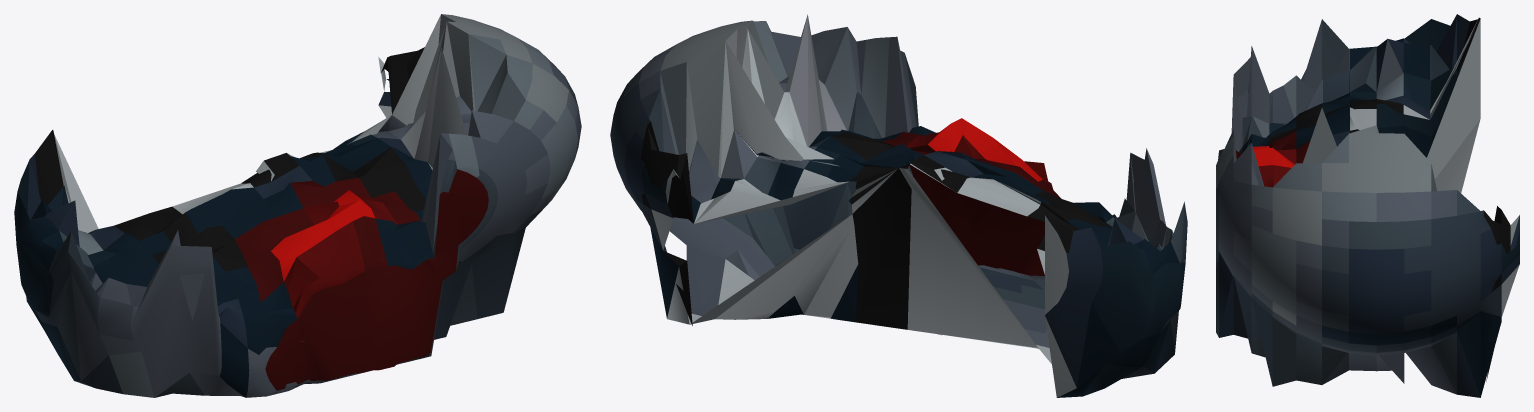
File: gyges_stalk_cap_damaged.glb
3 views of the same model, side by side, from view 1: azimuth 30°, elevation 25°; view 2: azimuth 150°, elevation 25°; view 3: azimuth 270°, elevation 25° (orthographic).
Parts seen in each view (by area): view 1: gyges_stalk_cap_damaged_stalk_cap; view 2: gyges_stalk_cap_damaged_stalk_cap; view 3: gyges_stalk_cap_damaged_stalk_cap.
Boxes of the visible parts, x1=… form: gyges_stalk_cap_damaged_stalk_cap: x1=14, y1=14, x2=581, y2=397; gyges_stalk_cap_damaged_stalk_cap: x1=610, y1=14, x2=1187, y2=397; gyges_stalk_cap_damaged_stalk_cap: x1=1216, y1=14, x2=1519, y2=397.
Bounding box in the file's own units: 23.29 × 10.75 × 11.33.
